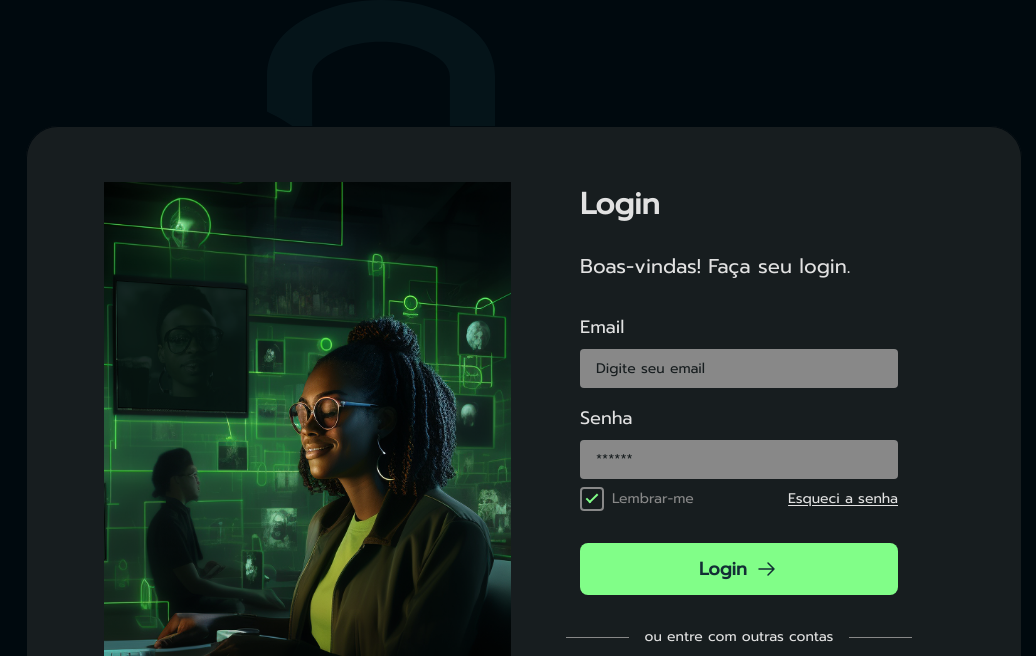
Test: returns to publishing after login without publishing automatically
Type "ana@example.com" into the field labelled "Email" at (739, 369), box [580,349,898,388]
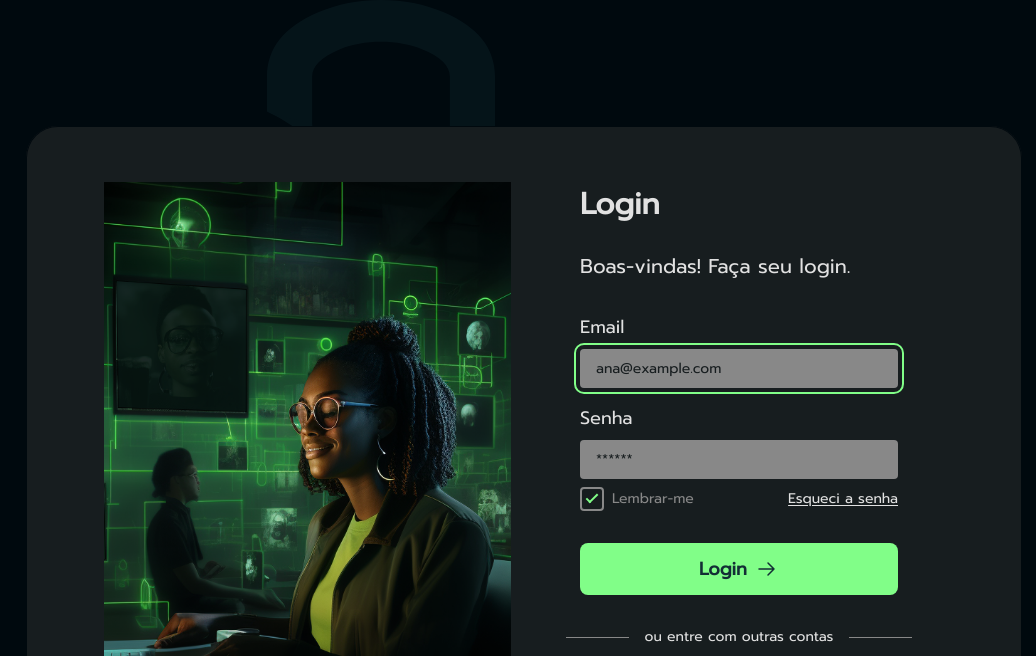
Type "segredo123" into the password field labelled "Senha" at (739, 460), box [580,440,898,479]
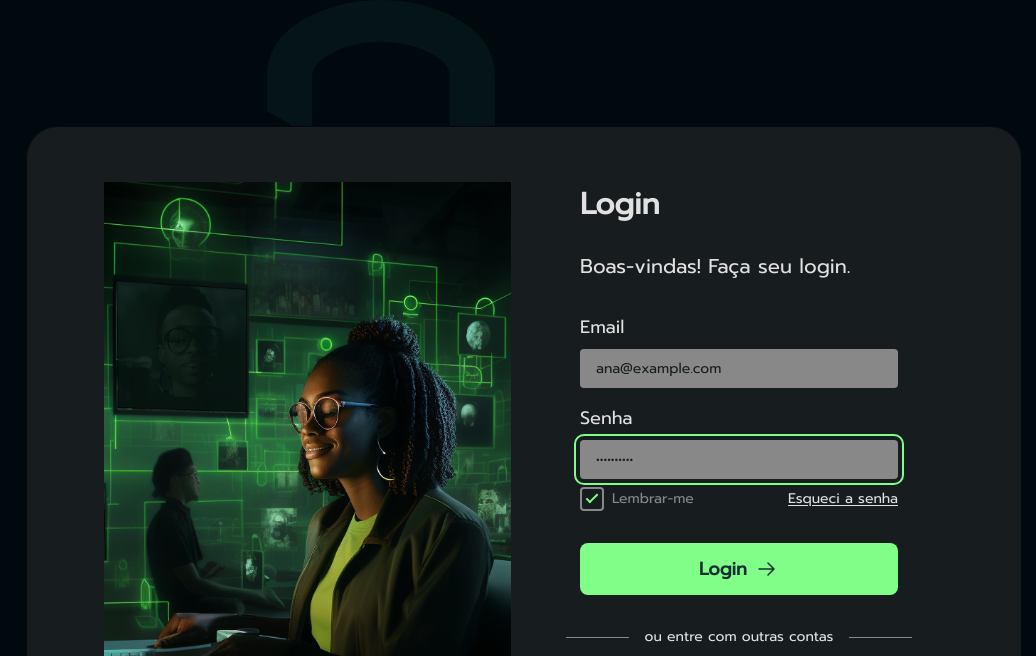
Click the button "Login" at (739, 569), box [580,543,898,595]
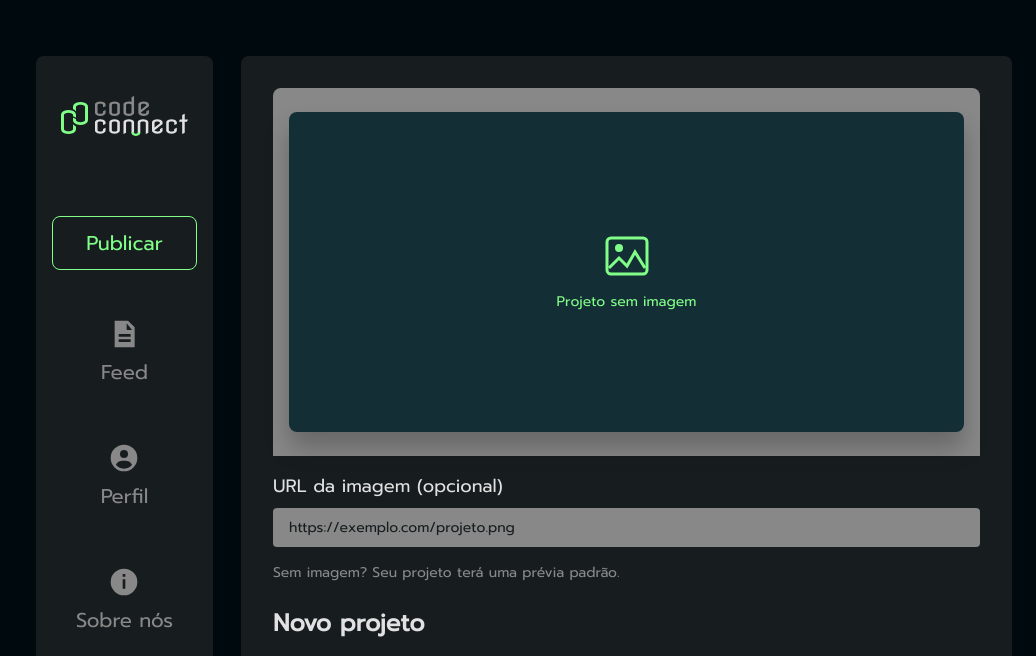
Check: the heading "Novo projeto" is shown, box [273,605,425,641]
